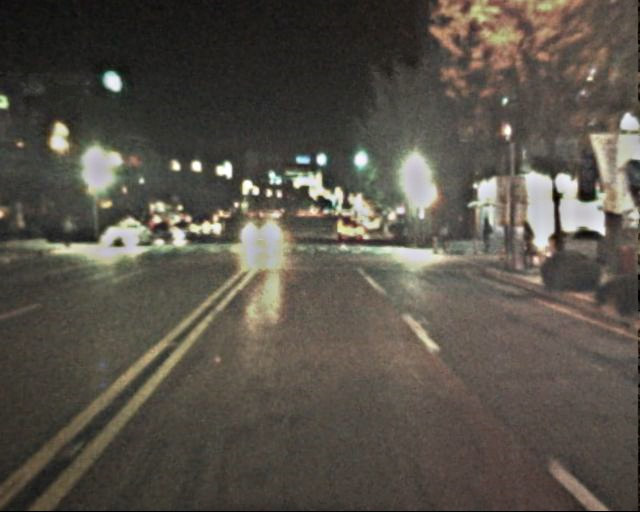person: (517, 221, 538, 273), (477, 213, 495, 257)
